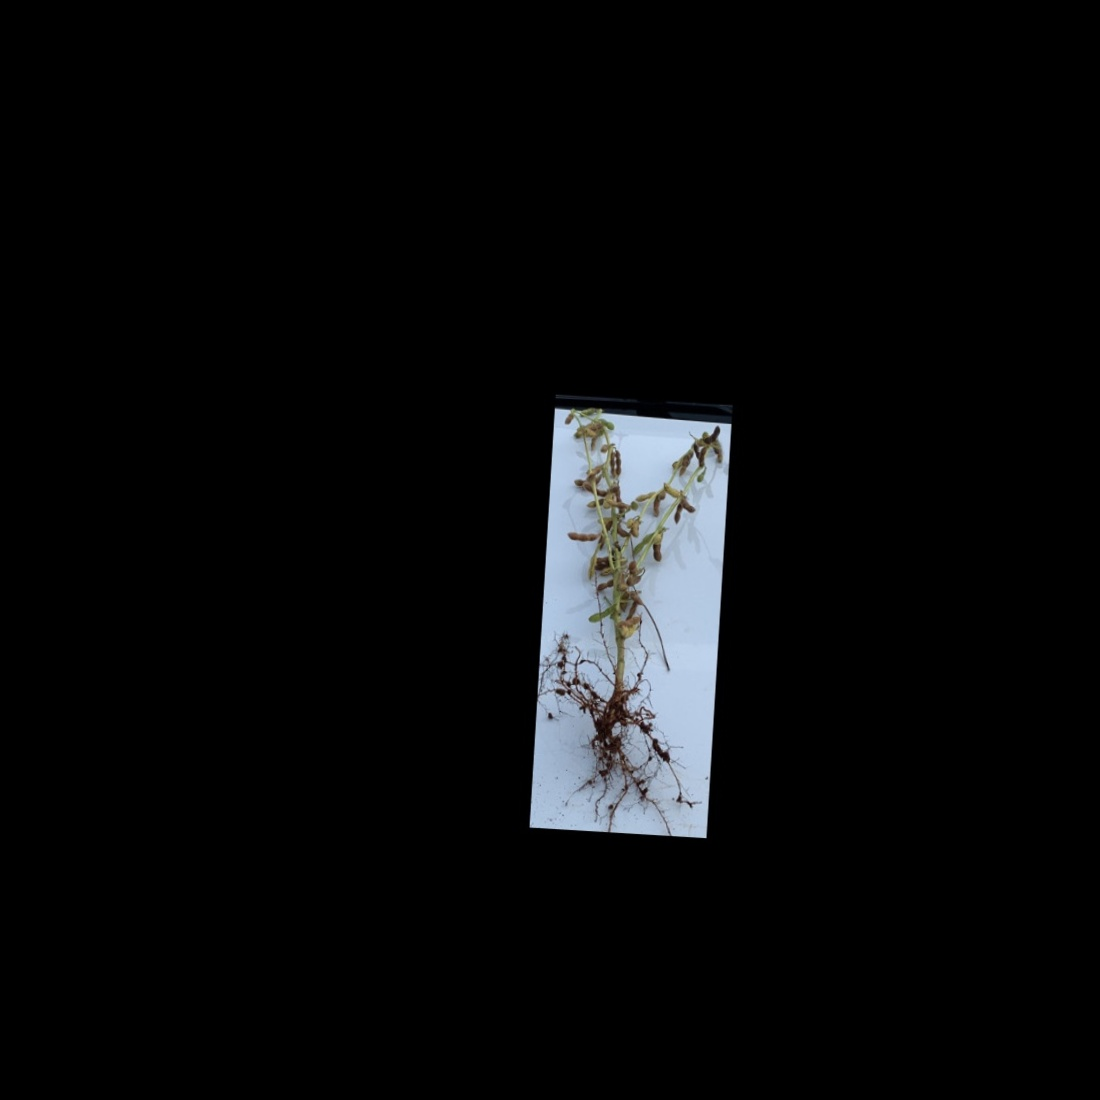pod: (586, 601, 617, 625), (627, 531, 654, 557), (564, 528, 604, 545), (593, 576, 616, 597), (676, 494, 700, 514), (611, 447, 625, 478), (575, 404, 599, 420), (633, 489, 657, 504)
soy: (534, 399, 728, 830)
